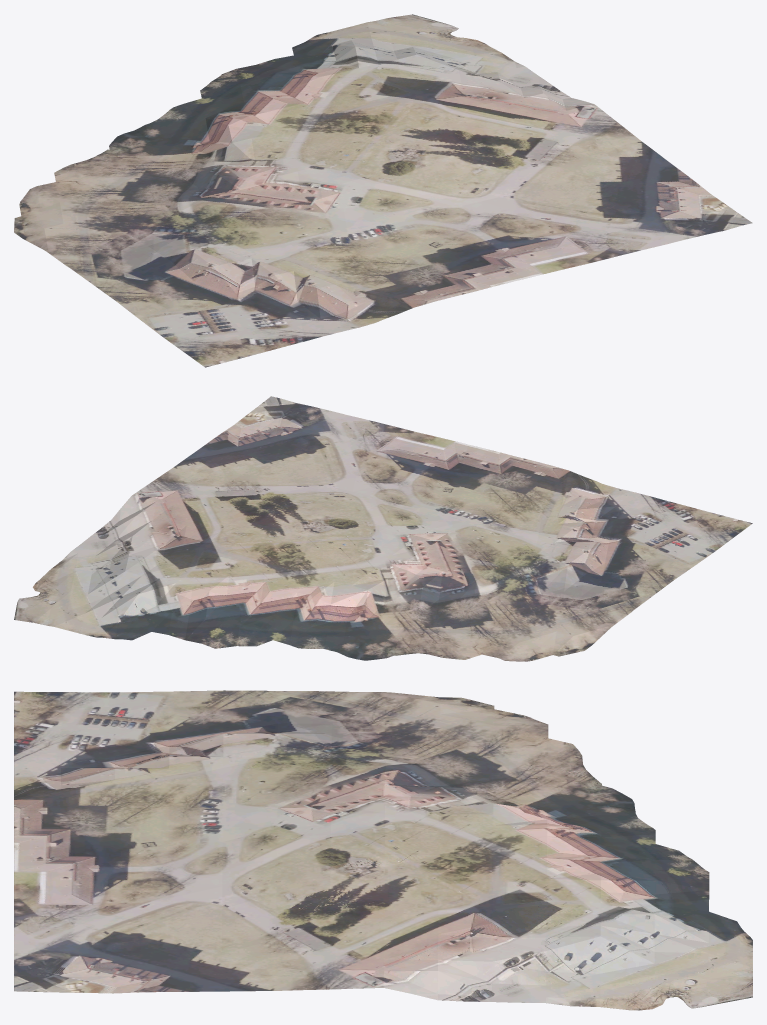
File: CM_Terrain_24488001_6822660.fbx
3 renders of one model, top to bottom at view 1: azimuth 30°, elevation 25°; view 2: azimuth 150°, elevation 25°; view 3: azimuth 270°, elevation 25°, orthographic. The views are drawn at different scales.
Visible parts, largest first — view 1: CM_Terrain_24488001_6822660_LOD0; view 2: CM_Terrain_24488001_6822660_LOD0; view 3: CM_Terrain_24488001_6822660_LOD0.
Boxes of the visible parts, x1,y1,x2,y2 form: CM_Terrain_24488001_6822660_LOD0: [14, 14, 752, 367]; CM_Terrain_24488001_6822660_LOD0: [14, 396, 752, 661]; CM_Terrain_24488001_6822660_LOD0: [14, 690, 752, 1010].
Size of what is drawn, in the model's own units: 205 by 9.59 by 205.
